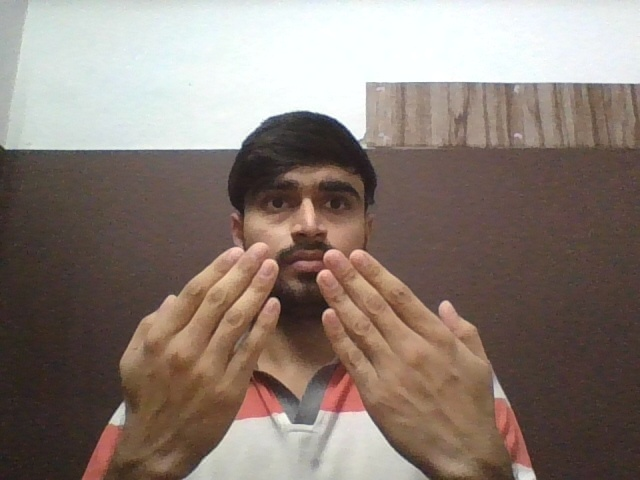Thankyou: (118, 241, 497, 467)
